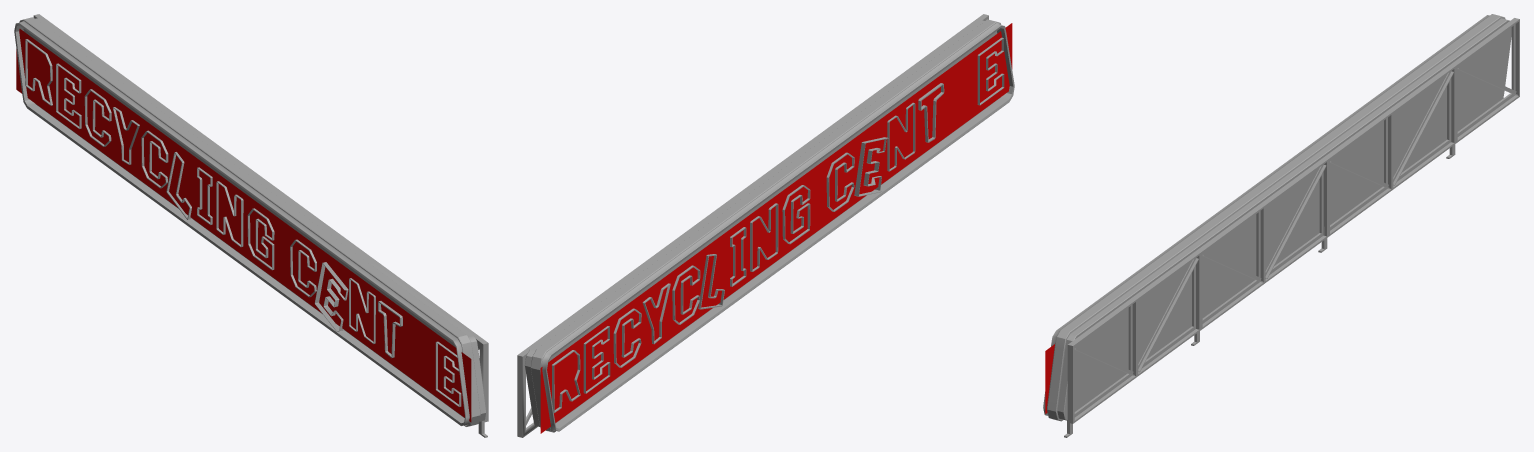
File: sign_neon_new.fbx
The picture shows the model from 3 angles, left to right: view 1: azimuth 30°, elevation 25°; view 2: azimuth 150°, elevation 25°; view 3: azimuth 330°, elevation 25°; orthographic projection. The views are drawn at different scales.
Parts seen in each view (by area): view 1: Neon_sign; view 2: Neon_sign; view 3: Neon_sign.
Part boxes in pixels (left/top/right/bottom): Neon_sign: left=14, top=14, right=488, bottom=437; Neon_sign: left=517, top=14, right=1014, bottom=437; Neon_sign: left=1043, top=14, right=1519, bottom=437.
Size of the model in its own units: 120 by 400 by 3440.
